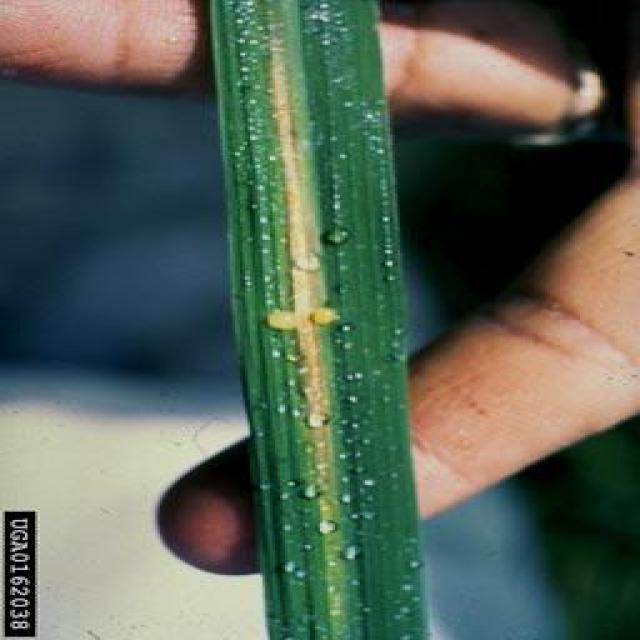Rice_Bacterial_Blight: (250, 11, 360, 566)
